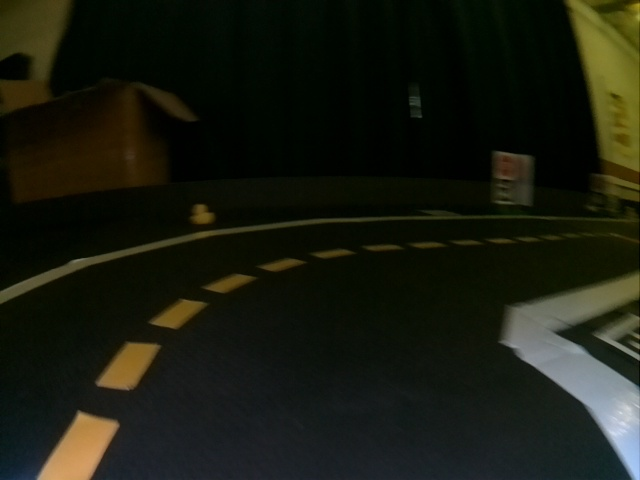Duckie: (190, 204, 215, 223)
